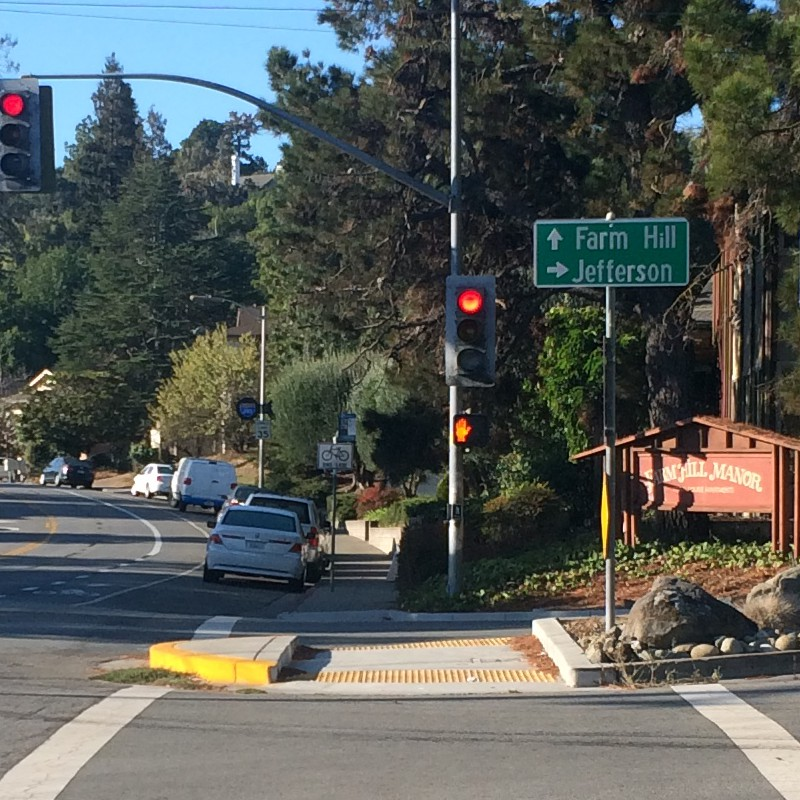stop: (449, 415, 492, 455)
